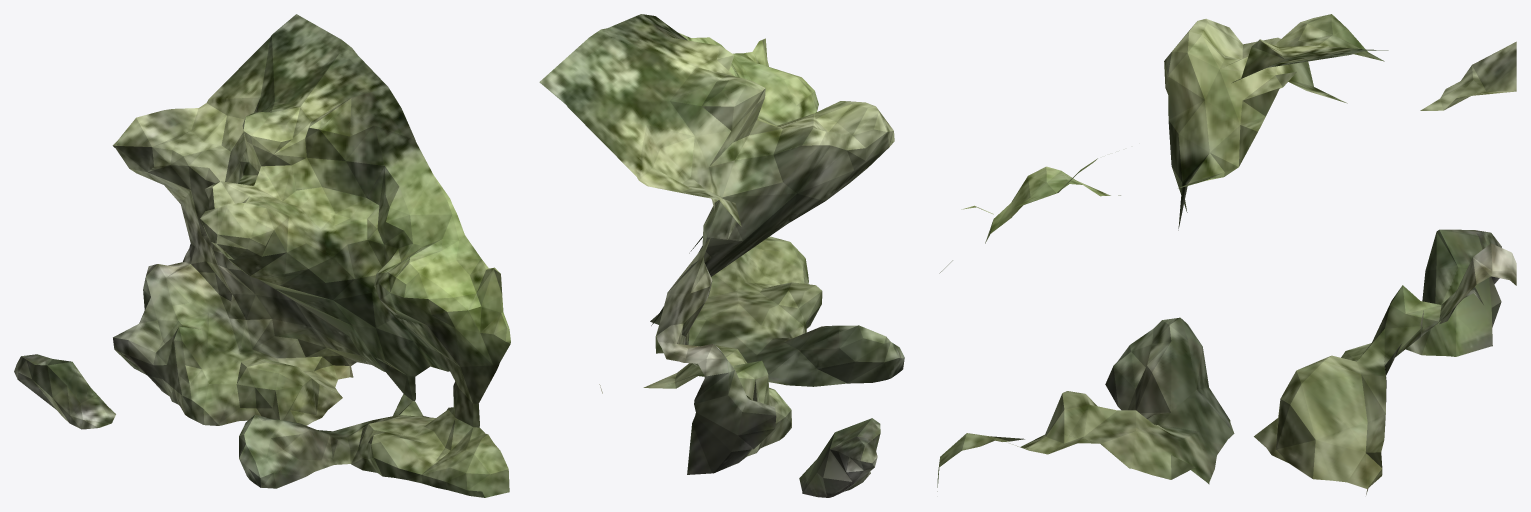
3 views of the same model, side by side, from view 1: azimuth 30°, elevation 25°; view 2: azimuth 150°, elevation 25°; view 3: azimuth 270°, elevation 25° (orthographic). The views are drawn at different scales.
Bounding box in the file's own units: 3.98 × 4.3 × 5.07.
3 materials, 3 textured.
